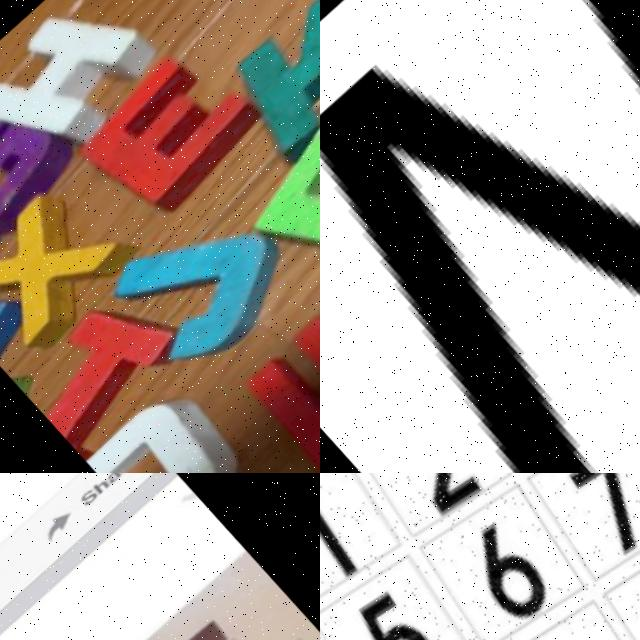1: (320, 473, 378, 591)
2: (363, 473, 502, 528)
5: (328, 568, 464, 640)
6: (442, 503, 569, 633)
7: (544, 473, 640, 565)
E: (69, 34, 265, 227)
F: (237, 88, 320, 294)
G: (0, 98, 70, 262)
H: (0, 0, 193, 184)
J: (101, 177, 307, 380)
K: (223, 0, 320, 157)
N: (320, 0, 640, 473)
W: (240, 253, 320, 473)
X: (0, 180, 135, 355)
